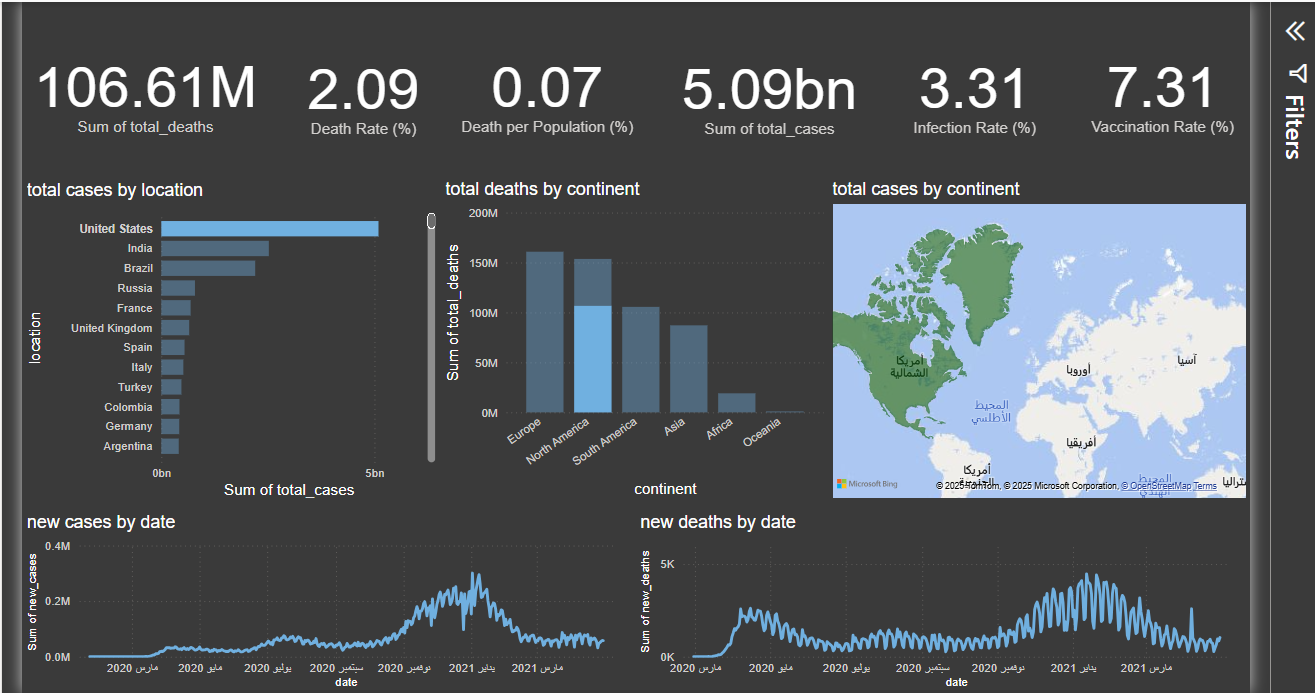

Layout of this report page (visuals, bound fields, positions):
{"tool":"powerbi","page":{"name":"Page 1","canvas":[1280,720],"ordinal":0},"visuals":[{"type":"clusteredColumnChart","title":"total deaths by continent","fields":{"Category":["CovidDeaths.continent"],"Y":["Sum(CovidDeaths.total_deaths)"]},"box":[435.8,184.5,404,337.2],"z":0},{"type":"barChart","title":"total cases by location","fields":{"Category":["Covidvaccinations.location"],"Y":["Sum(CovidDeaths.total_cases)"]},"box":[0,186.1,435.8,335.6],"z":1000},{"type":"filledMap","title":"total cases by continent","fields":{"Category":["CovidDeaths.continent"]},"box":[839.8,184.5,440.6,337.2],"z":2000},{"type":"card","fields":{"Values":["Sum(CovidDeaths.total_deaths)"]},"box":[0,0,257.7,184.5],"z":3000},{"type":"card","fields":{"Values":["Sum(CovidDeaths.total_cases)"]},"box":[658.5,3.2,241.8,182.9],"z":4000},{"type":"card","fields":{"Values":["CovidDeaths.Death per Population (%)"]},"box":[435.8,0,222.7,184.5],"z":5000},{"type":"card","fields":{"Values":["CovidDeaths.Death Rate (%)"]},"box":[257.7,3.2,195.6,182.9],"z":6000},{"type":"card","fields":{"Values":["CovidDeaths.Infection Rate (%)"]},"box":[887.6,1.6,210,184.5],"z":7000},{"type":"card","fields":{"Values":["Covidvaccinations.Vaccination Rate (%)"]},"box":[1097.5,0,182.9,184.5],"z":8000},{"type":"lineChart","title":"new cases by date","fields":{"Category":["CovidDeaths.date"],"Y":["Sum(CovidDeaths.new_cases)"]},"box":[0,531.3,637.8,189.3],"z":8001},{"type":"lineChart","title":"new deaths by date","fields":{"Category":["CovidDeaths.date"],"Y":["Sum(CovidDeaths.new_deaths)"]},"box":[639.4,531.3,641,189.3],"z":8002}]}

Visuals, with their boxes on the page's 1280x720 design canvas (x1, y1, x2, y2). These are canvas units, not pixel positions in the 1315x693 screenshot, which may show the page scaled, cropped or inside an application window:
"total deaths by continent" clusteredColumnChart: l=436, t=184, r=840, b=522
"total cases by location" barChart: l=0, t=186, r=436, b=522
"total cases by continent" filledMap: l=840, t=184, r=1280, b=522
card - Sum(CovidDeaths.total_deaths): l=0, t=0, r=258, b=184
card - Sum(CovidDeaths.total_cases): l=658, t=3, r=900, b=186
card - CovidDeaths.Death per Population (%): l=436, t=0, r=658, b=184
card - CovidDeaths.Death Rate (%): l=258, t=3, r=453, b=186
card - CovidDeaths.Infection Rate (%): l=888, t=2, r=1098, b=186
card - Covidvaccinations.Vaccination Rate (%): l=1098, t=0, r=1280, b=184
"new cases by date" lineChart: l=0, t=531, r=638, b=721
"new deaths by date" lineChart: l=639, t=531, r=1280, b=721
